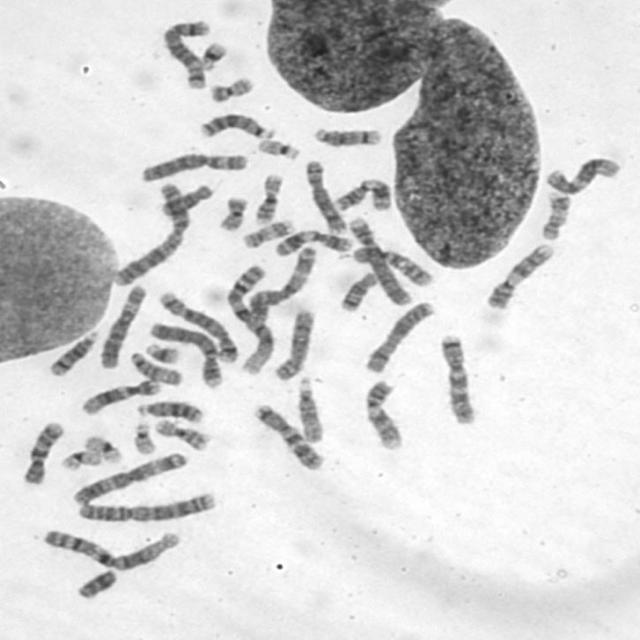A1: (36, 523, 183, 572), (220, 260, 277, 376)
A2: (106, 176, 193, 288), (71, 486, 220, 523)
A3: (65, 446, 189, 506), (242, 240, 319, 321)
B4: (342, 211, 414, 307), (144, 315, 225, 389)
B5: (152, 286, 239, 364), (157, 15, 211, 90)
C10: (348, 242, 436, 288), (17, 415, 66, 486)
C11: (268, 225, 356, 258), (328, 173, 393, 213)
C12: (540, 151, 623, 196), (76, 374, 163, 416)
C6: (94, 279, 149, 370), (135, 147, 251, 183)
C7: (248, 398, 326, 472), (434, 328, 478, 426)
C8: (300, 154, 350, 236), (269, 304, 318, 382)
C9: (480, 239, 556, 310), (358, 375, 406, 452)
D13: (192, 107, 276, 141), (131, 395, 205, 424)
D14: (43, 325, 102, 377), (307, 121, 384, 148)
D15: (125, 346, 185, 387), (292, 372, 326, 444)
E16: (149, 414, 213, 452), (248, 168, 285, 225)
E17: (236, 213, 296, 250), (534, 188, 573, 242)
E18: (156, 178, 216, 218), (334, 267, 380, 313)
F19: (78, 431, 124, 464), (55, 445, 104, 472)
F20: (204, 70, 256, 104), (213, 190, 250, 233)
G21: (194, 36, 229, 72), (140, 337, 183, 365)
G22: (252, 134, 302, 160), (128, 417, 158, 455)
X: (358, 296, 437, 375)
Y: (71, 564, 119, 600)
